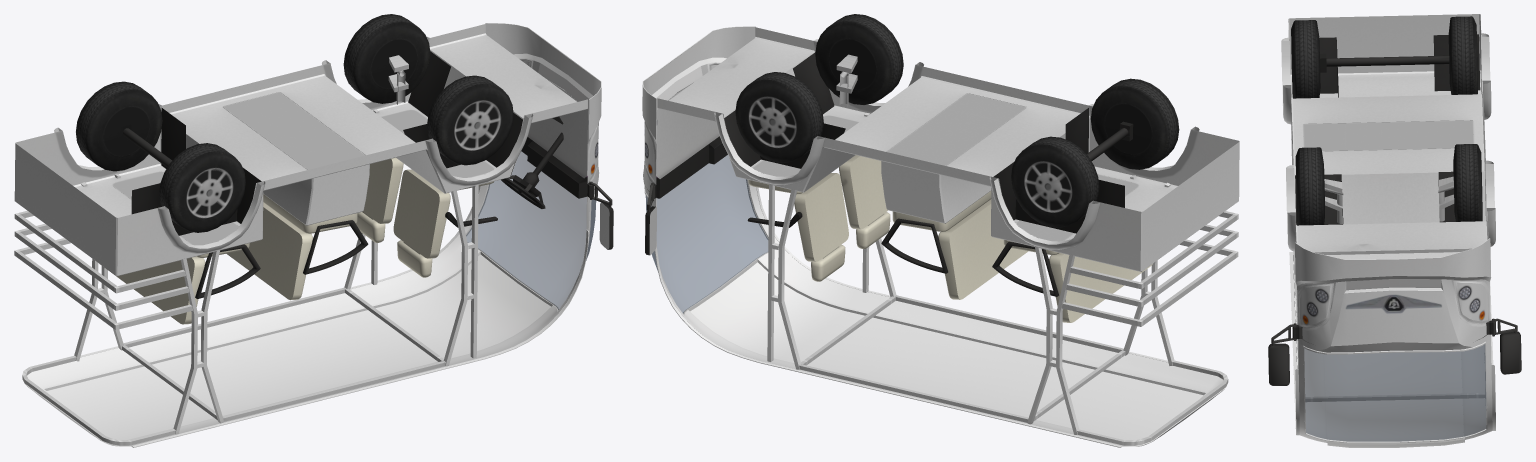
Rendered from rot_sdv_1.glb.
The picture shows the model from 3 angles, left to right: view 1: azimuth 30°, elevation 25°; view 2: azimuth 150°, elevation 25°; view 3: azimuth 270°, elevation 25°; orthographic projection. The views are drawn at different scales.
Visible parts, largest first — view 1: buggy; view 2: buggy; view 3: buggy.
Boxes of the visible parts, left/top/right/bottom form: buggy: left=14, top=14, right=613, bottom=447; buggy: left=642, top=14, right=1239, bottom=447; buggy: left=1268, top=14, right=1521, bottom=447.
Size of the model in its own units: 4.37 by 2.38 by 1.95.
2 materials, 2 textured.
